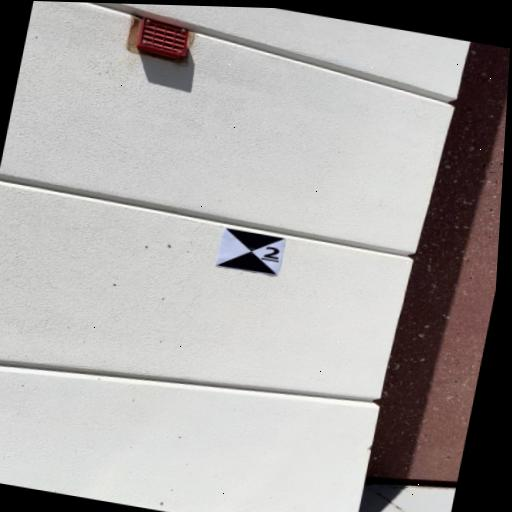target2: (215, 227, 288, 275)
